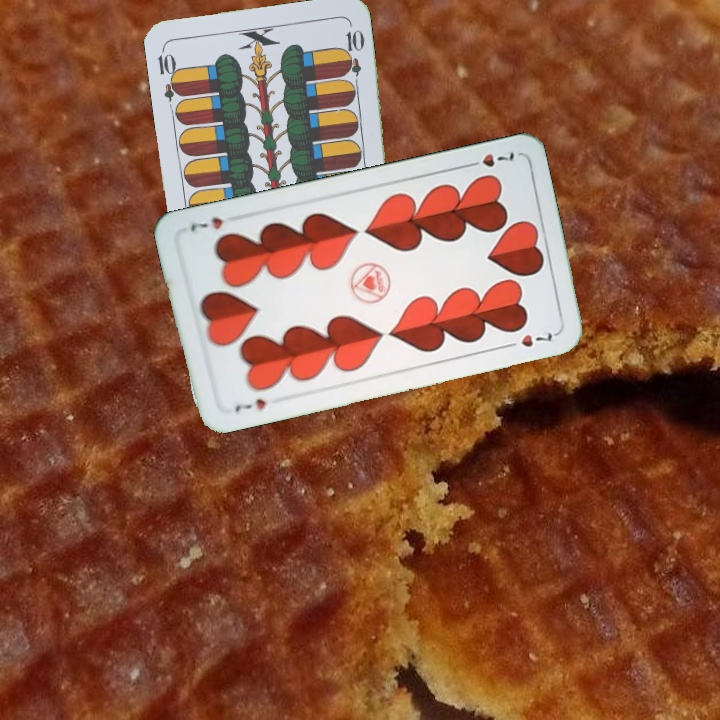E10: (153, 44, 185, 103)
H7: (461, 148, 517, 171), (230, 394, 268, 415)
